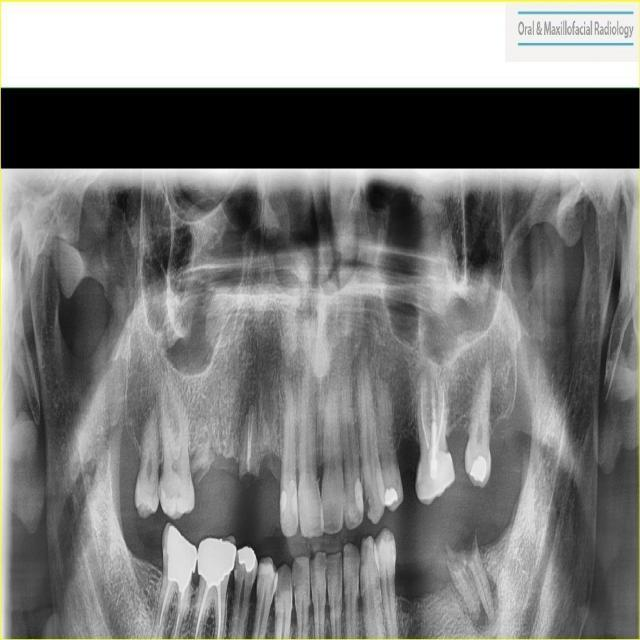71: (431, 419, 438, 480)
72: (182, 434, 222, 488), (239, 408, 262, 476), (252, 421, 278, 475)
74: (194, 582, 212, 631), (155, 578, 172, 629), (417, 387, 430, 452), (437, 386, 449, 446), (175, 592, 185, 632), (246, 412, 253, 469), (215, 584, 223, 632), (431, 385, 437, 420)
NucleOSS Implant: (166, 524, 198, 594), (234, 543, 262, 575), (468, 455, 492, 483), (203, 565, 230, 589), (385, 488, 398, 508)
Sterngold Implant: (443, 534, 484, 573), (361, 478, 374, 515), (170, 491, 183, 502), (151, 476, 158, 496), (234, 555, 240, 575)
Straumann Implant: (405, 443, 465, 507), (289, 479, 299, 524), (354, 478, 365, 517), (279, 491, 287, 521)
Zimmer Implant: (196, 534, 238, 576)
